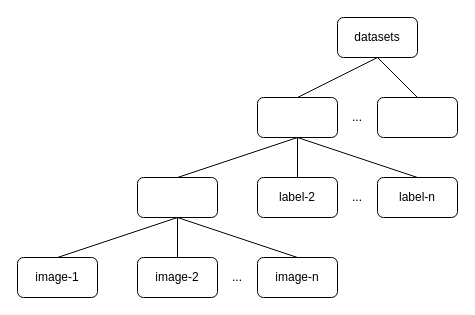
Image size: 475x315. Some labels were removed from this diagram. The centre of each missing label's shape, as x and y in pixels:
dataset-1: (297,117)
dataset-2: (417,117)
label-1: (177,197)
